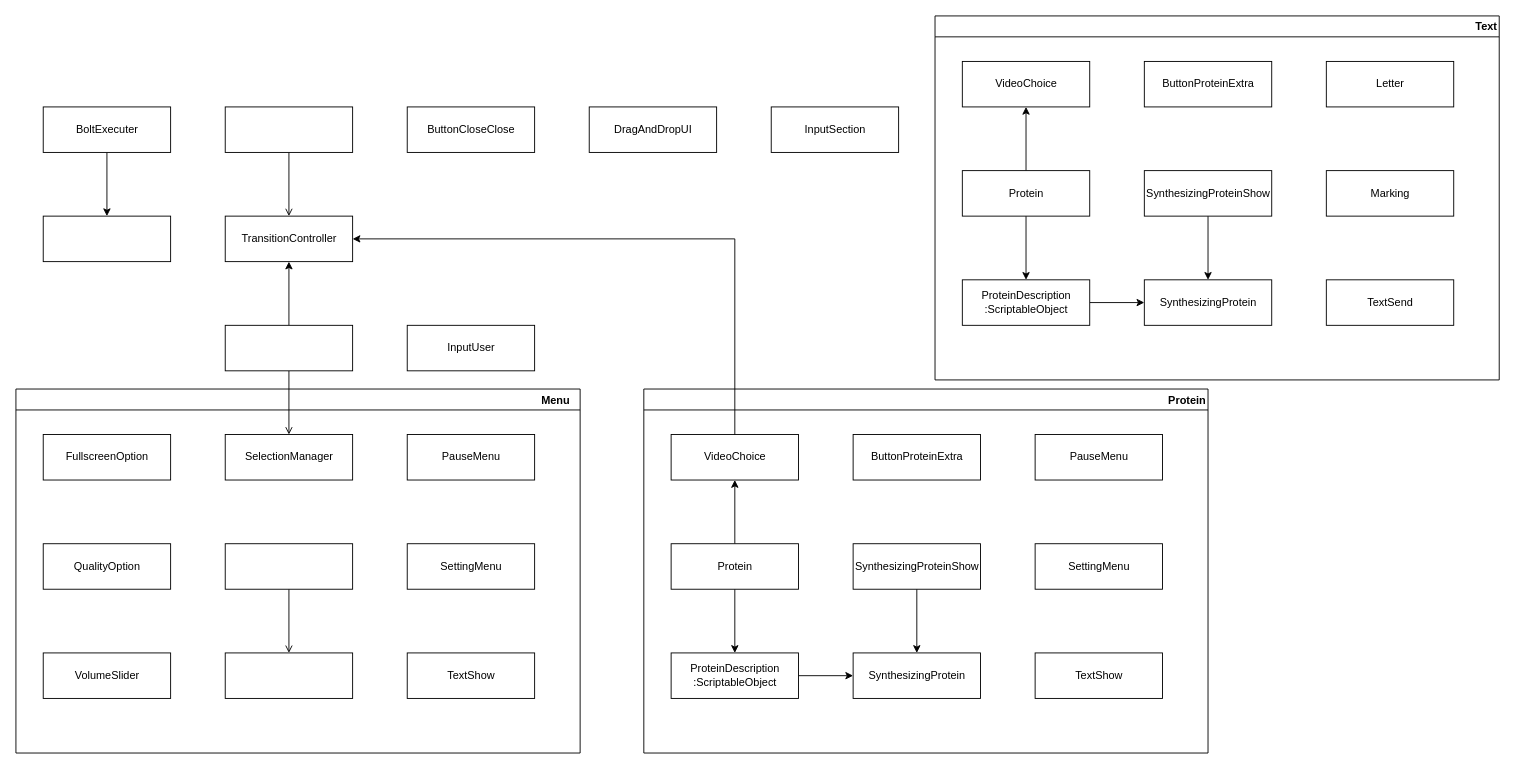
This 1515x769 diagram has some shape labels left out. The centre of each missing label's shape, as x and y in pixels:
AnimatorUser: [288,129]
BoltOnBothSides: [106,238]
MenuComponent: [288,675]
Partition: [288,566]
TransitionUser: [288,347]
